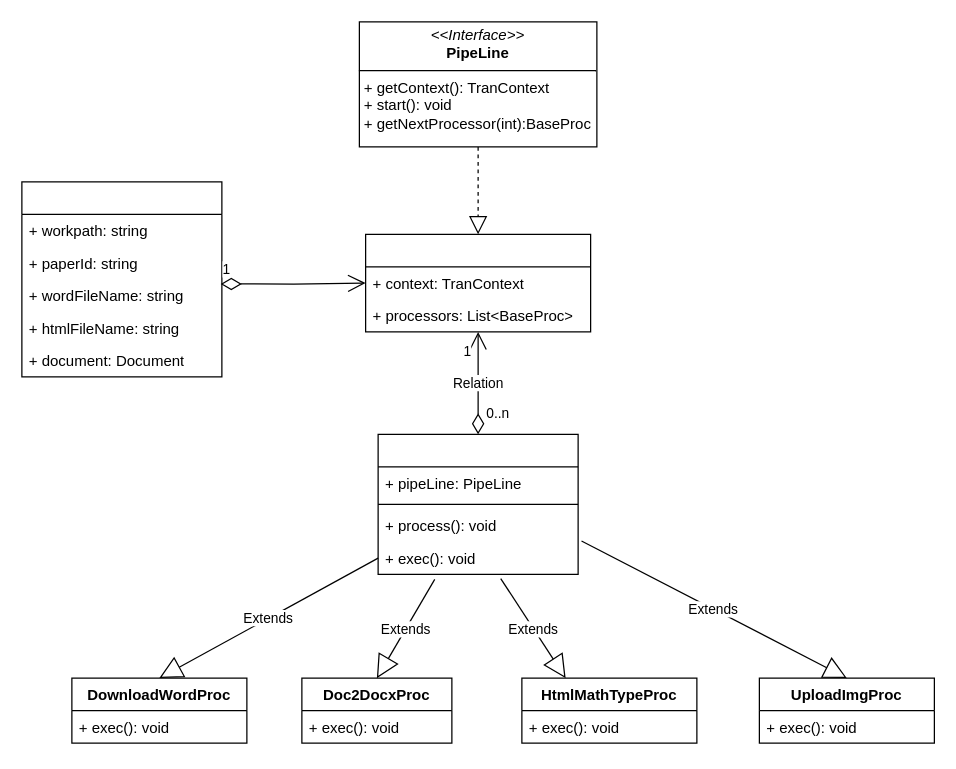
This 956x769 diagram has some shape labels left out. Each missing label, with the box of its shape:
BaseProc: (377, 433, 578, 574)
DefaultPipeLine: (364, 233, 591, 332)
TranContext: (21, 181, 222, 377)
